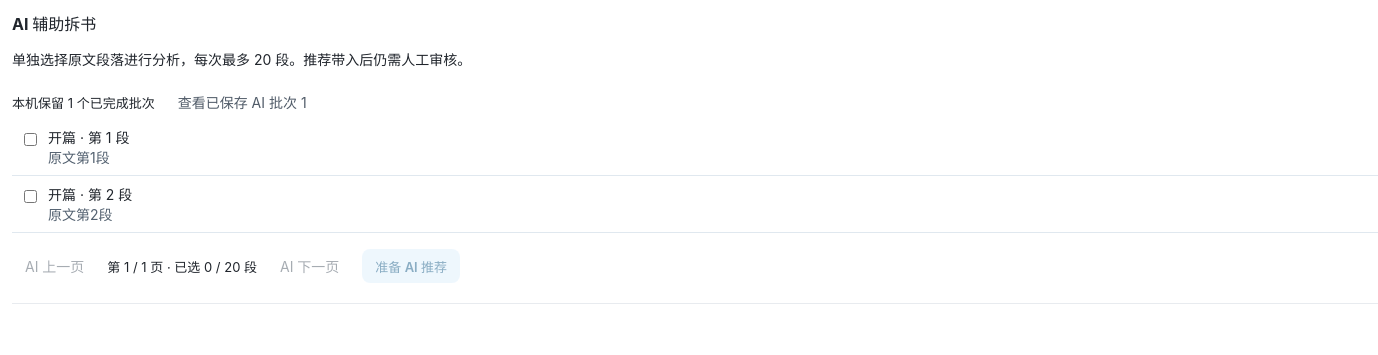
旧批次缺失或原文身份不匹配禁止恢复，不发送云请求
Step 1. Click the button "查看已保存 AI 批次 1" → click(242, 102), box top-left (165, 85), bottom-right (320, 119)
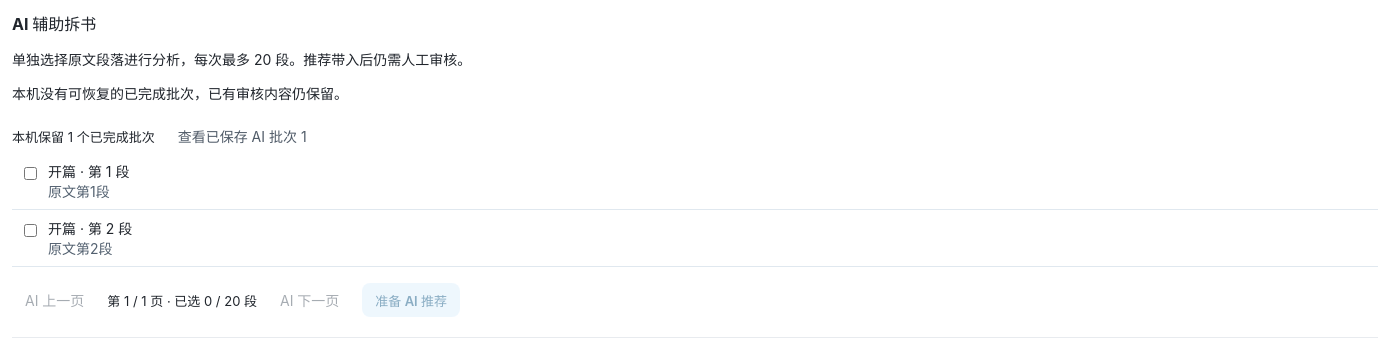
Expected: the message shows "没有可恢复", top-left (12, 85), bottom-right (348, 102)
Step 2. Click the button "查看已保存 AI 批次 1" → click(242, 136), box top-left (165, 119), bottom-right (320, 153)
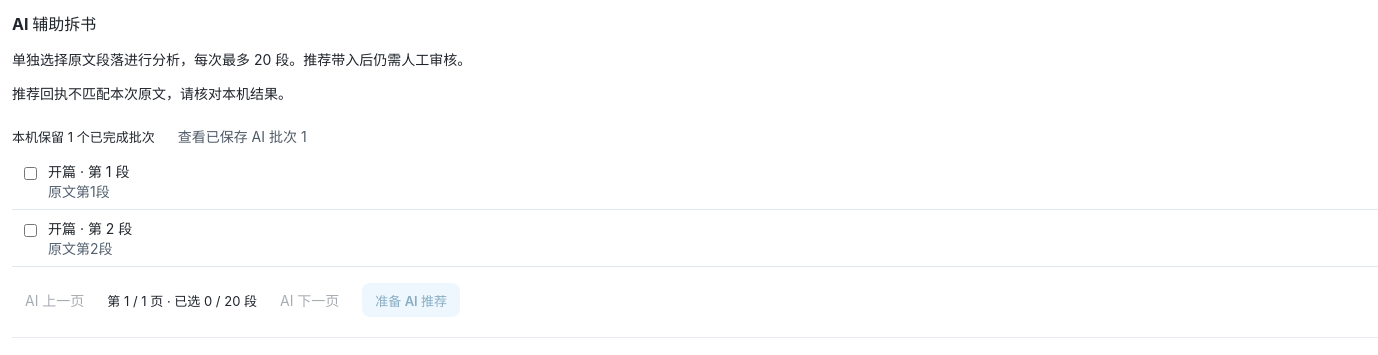
Expected: the message shows "不匹配", top-left (12, 85), bottom-right (292, 102)
